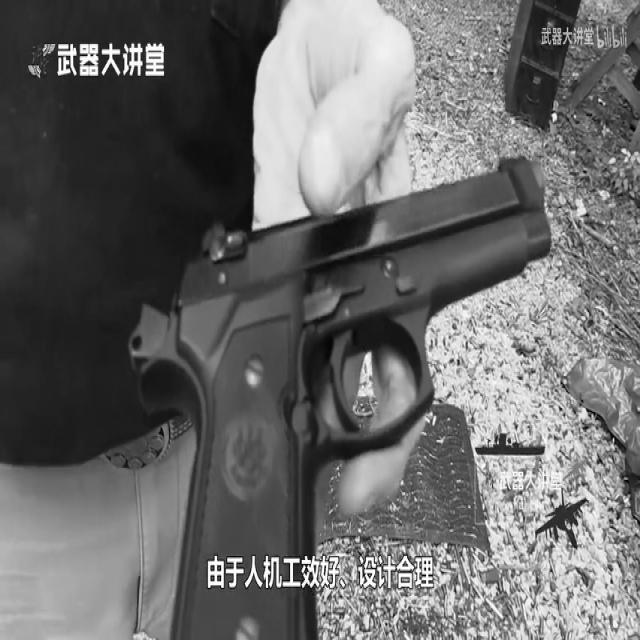Hand-Gun: (111, 35, 618, 640)
